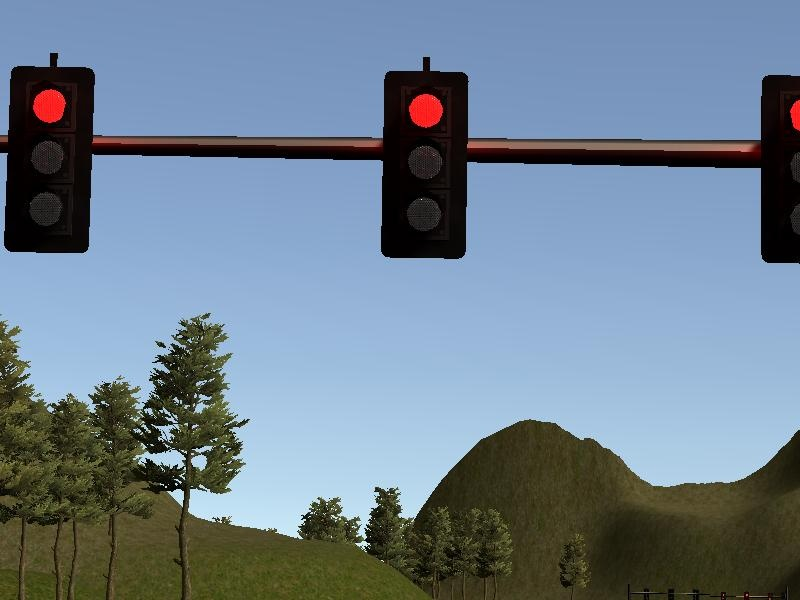red: (1, 62, 98, 256), (376, 67, 472, 261)
